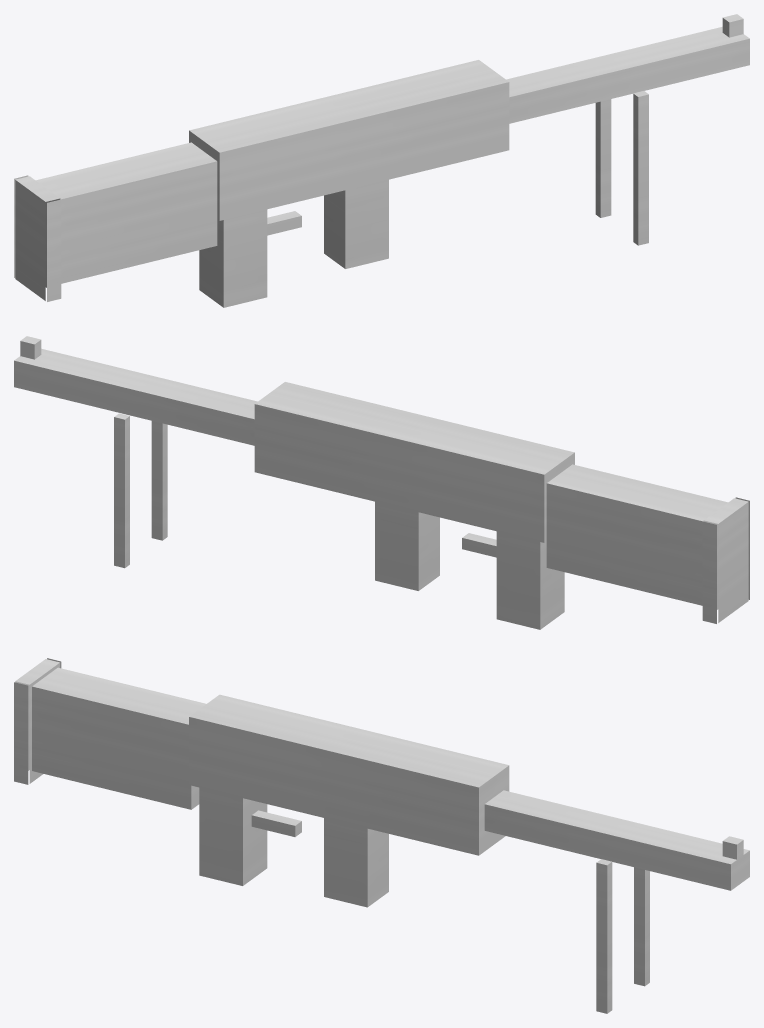
Rendered from lmg.obj.
3 views of the same model, one above another, from view 1: azimuth 30°, elevation 25°; view 2: azimuth 150°, elevation 25°; view 3: azimuth 330°, elevation 25° (orthographic).
Parts seen in each view (by area): view 1: lmg; view 2: lmg; view 3: lmg.
Boxes of the visible parts, <box> form: lmg: <box>14,14,749,307</box>; lmg: <box>14,336,749,629</box>; lmg: <box>14,658,749,1013</box>.
Size of the model in its own units: 0.98 by 0.25 by 0.102.
